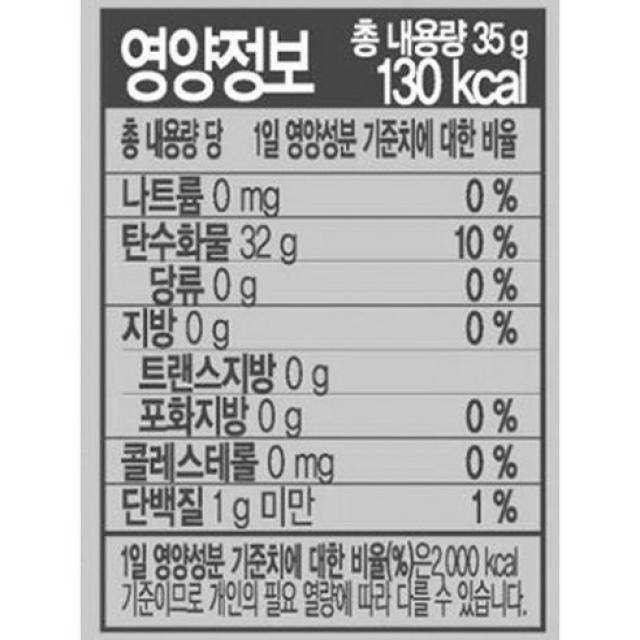Nutrition Label: (87, 0, 562, 640)
